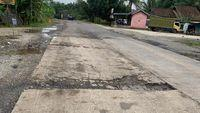Pothole: (23, 70, 177, 97), (5, 28, 44, 63), (127, 29, 168, 53), (177, 33, 200, 63), (46, 16, 63, 34)
